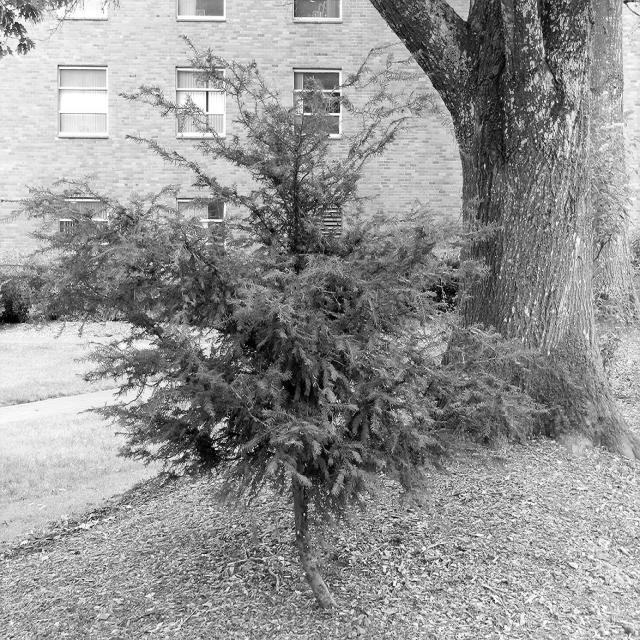Taxus brevifolia: (23, 43, 575, 602)
